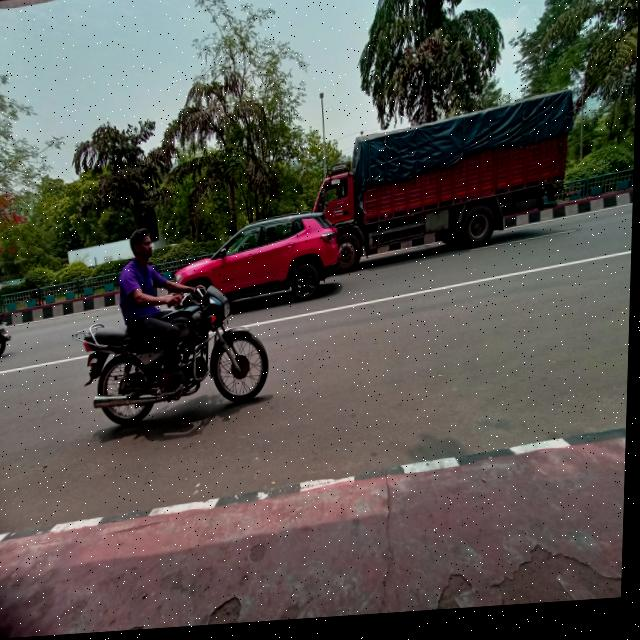bike: (57, 292, 288, 428)
car: (180, 212, 348, 320)
